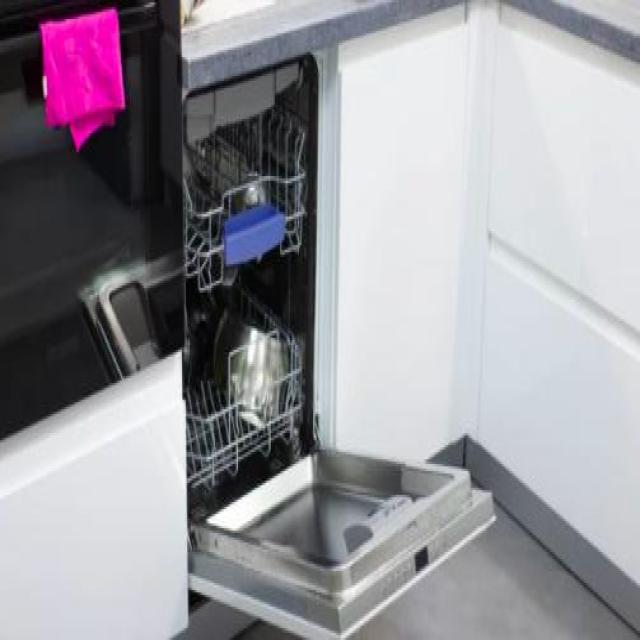dishwasher: (182, 62, 496, 638)
